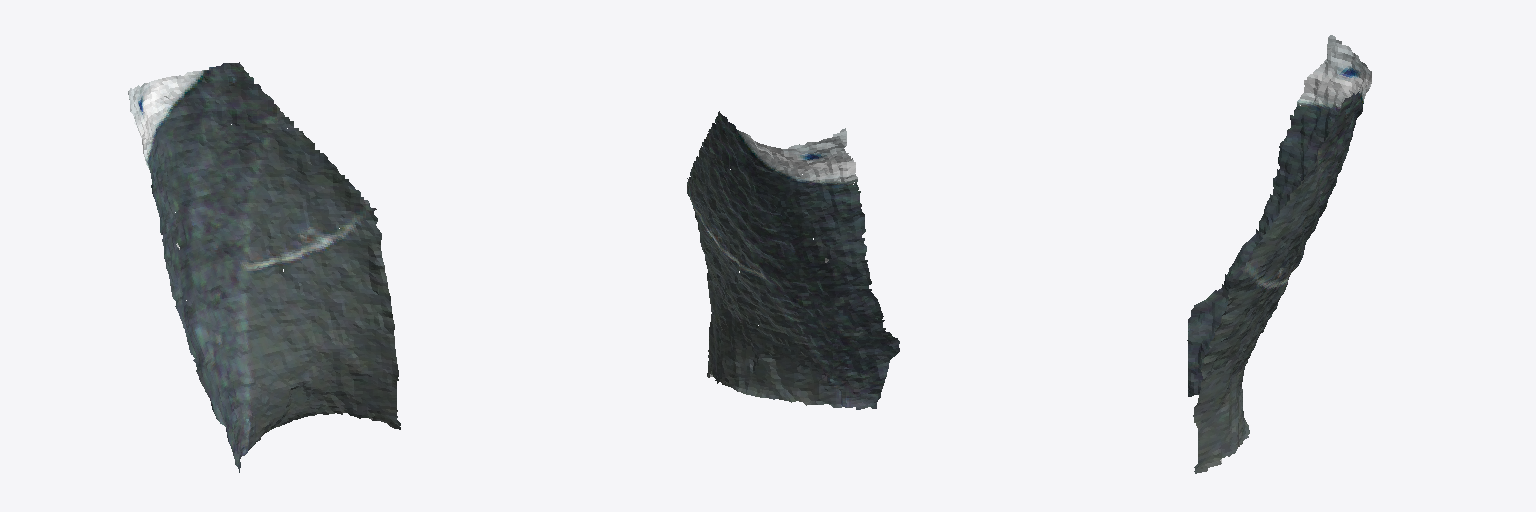
3 renders of one model, left to right at view 1: azimuth 30°, elevation 25°; view 2: azimuth 150°, elevation 25°; view 3: azimuth 270°, elevation 25°, orthographic.
Size of the model in its own units: 0.1079 by 0.1719 by 0.0843.
2 materials, 1 textured.